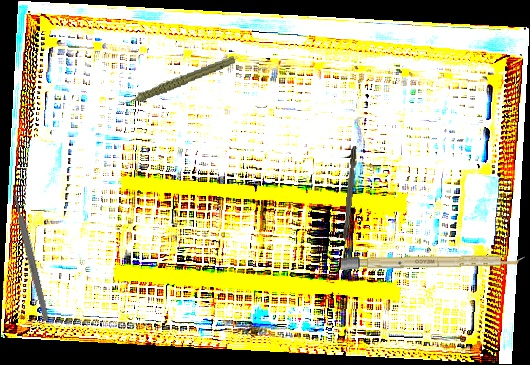Handpiece: (115, 54, 239, 107)
Hook Surgical: (340, 145, 358, 258)
Scalpel Handle: (11, 193, 51, 323), (339, 254, 526, 270)
